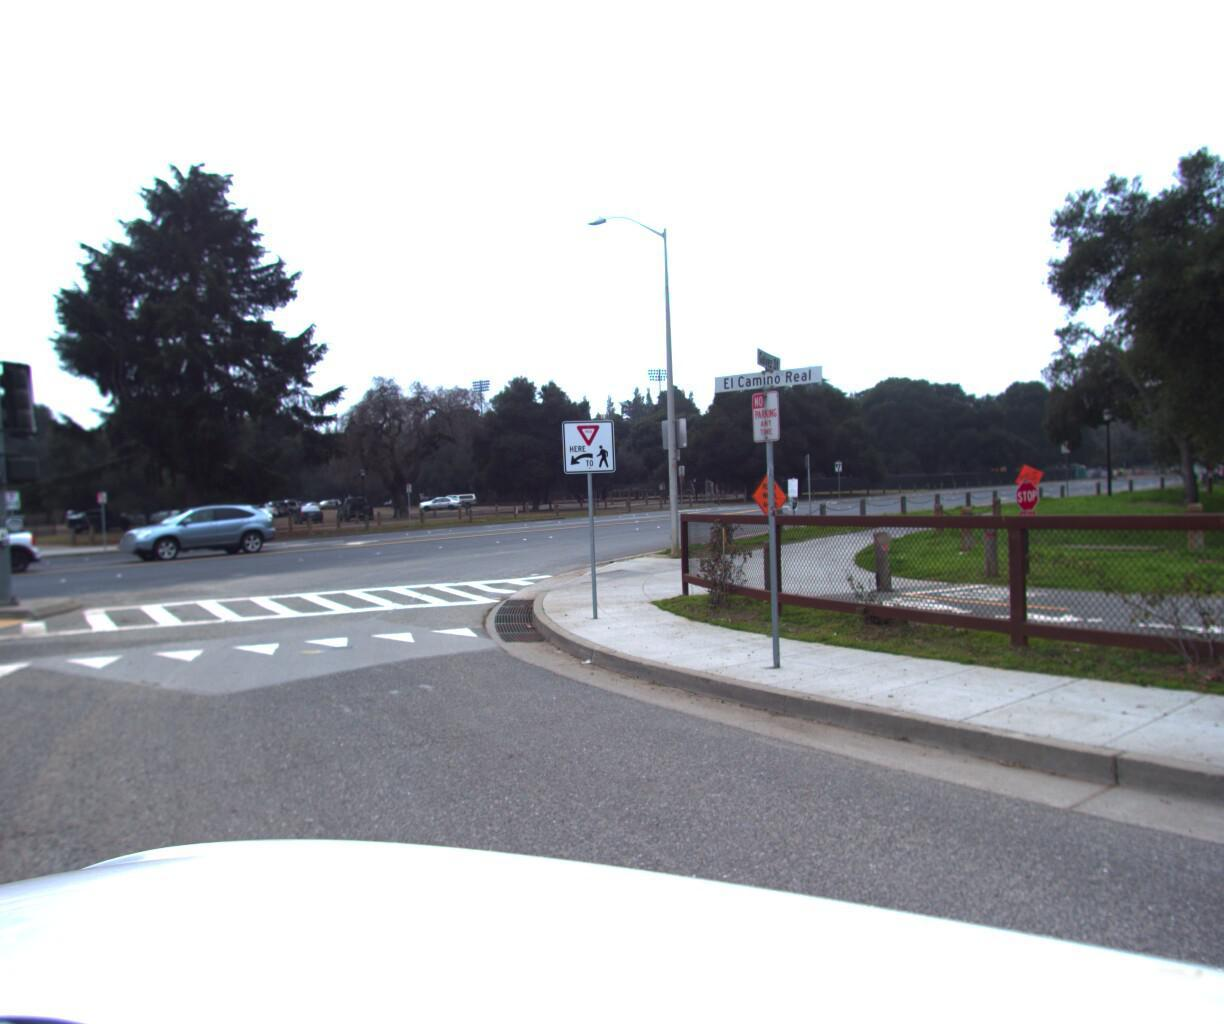car: (103, 500, 277, 563), (0, 517, 36, 587)
